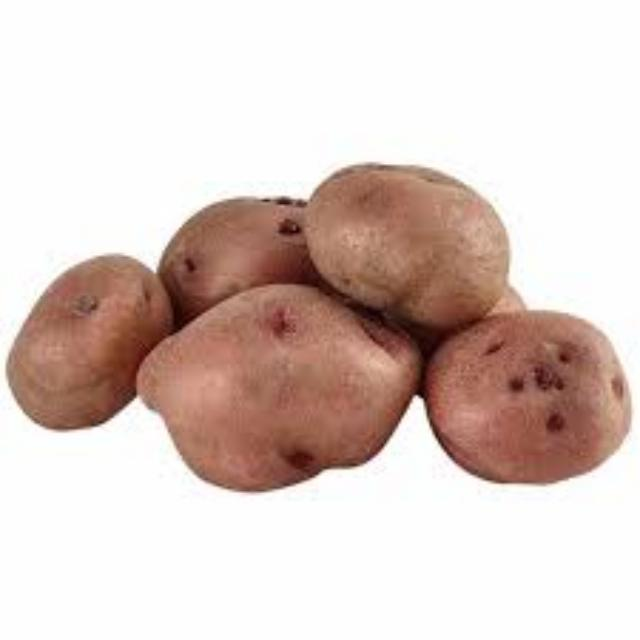Diseased-fungal potato: (131, 278, 425, 496), (301, 158, 515, 338), (419, 311, 636, 487), (156, 188, 364, 370), (4, 247, 176, 433)
